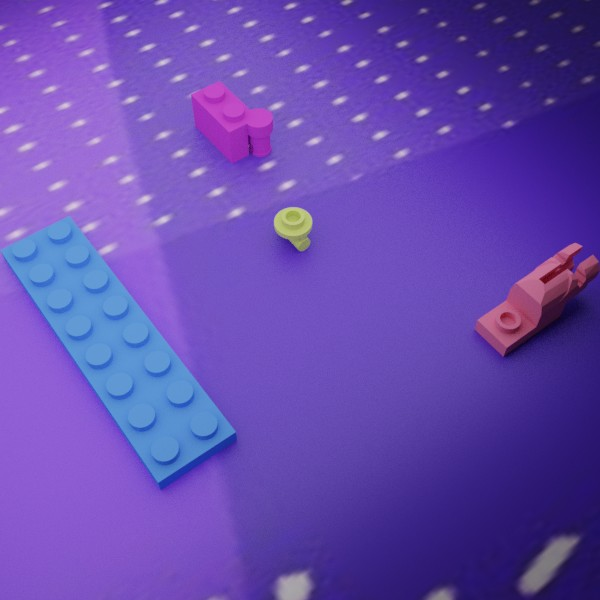lego: (0, 215, 237, 490), (474, 242, 600, 356), (190, 81, 273, 163), (274, 207, 312, 251)
